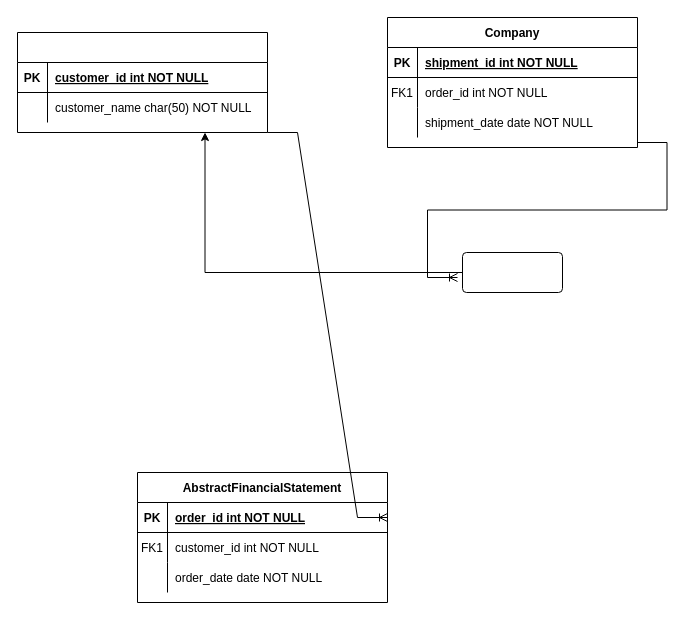
Some shapes in this 693 by 620 pixel diagram are drawn without their labels. Each missing label, with the box of its shape:
CombinedFinancialStatements: (16, 32, 268, 132)
Filing: (462, 252, 562, 292)
